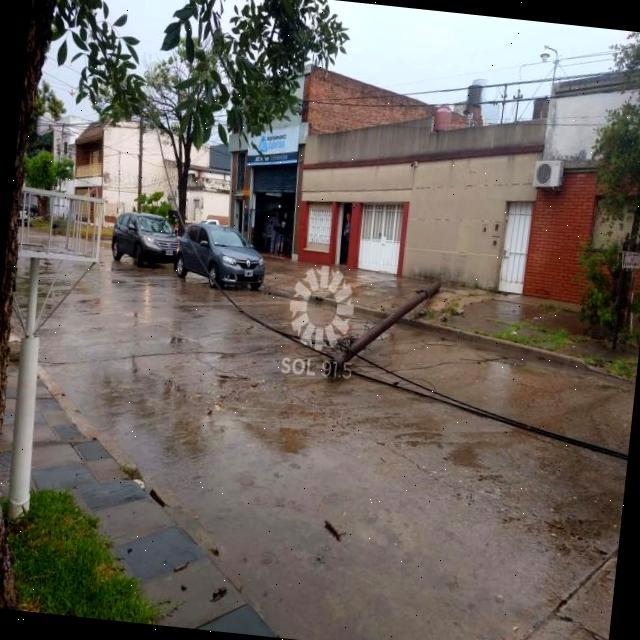Broken Pole: (325, 281, 440, 376)
